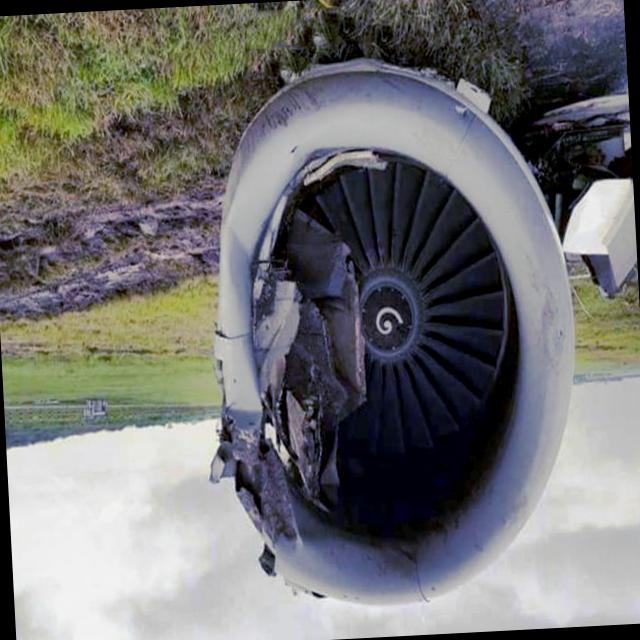dent: (208, 136, 274, 322), (228, 381, 264, 432)
